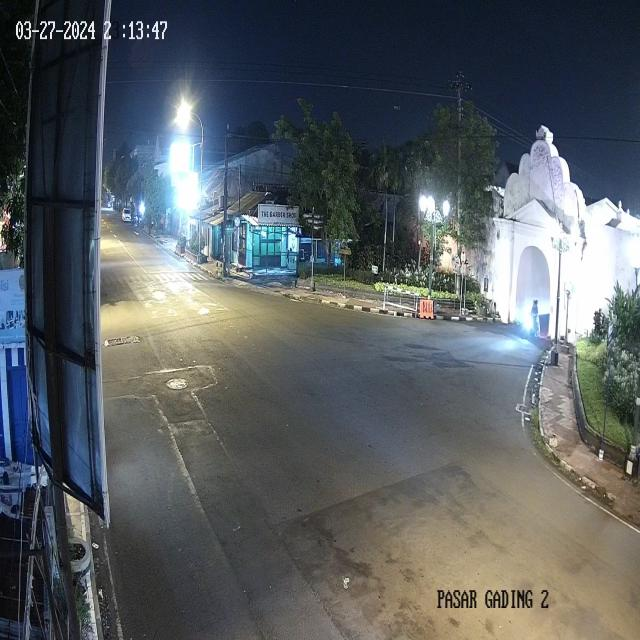car: (119, 204, 130, 224)
motorcycle: (525, 296, 537, 344)
